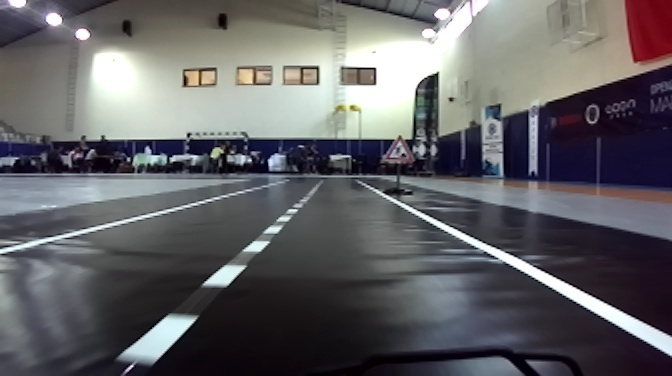yol_yapimi: (379, 129, 422, 164)
